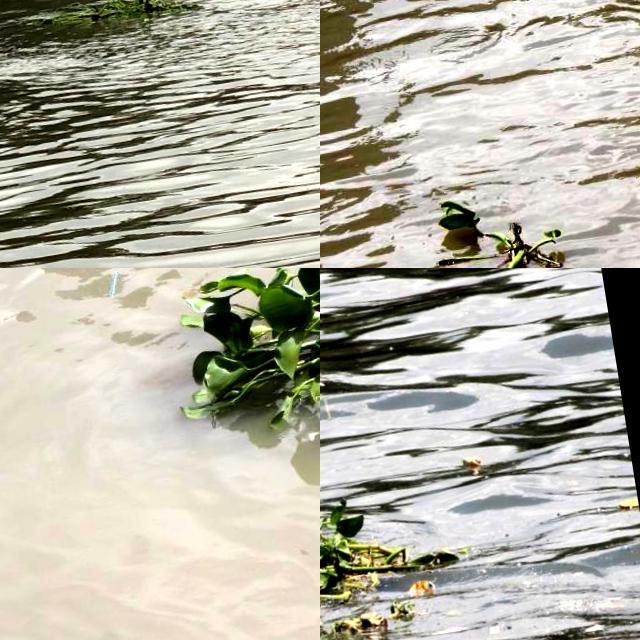water-hyacinth: (157, 269, 321, 478), (321, 488, 516, 640), (420, 181, 563, 269), (1, 1, 240, 42)
